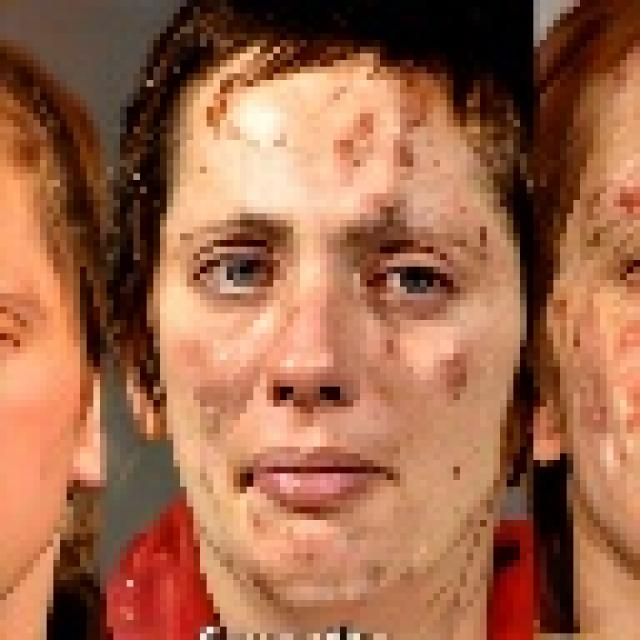sad: (116, 18, 530, 640)
